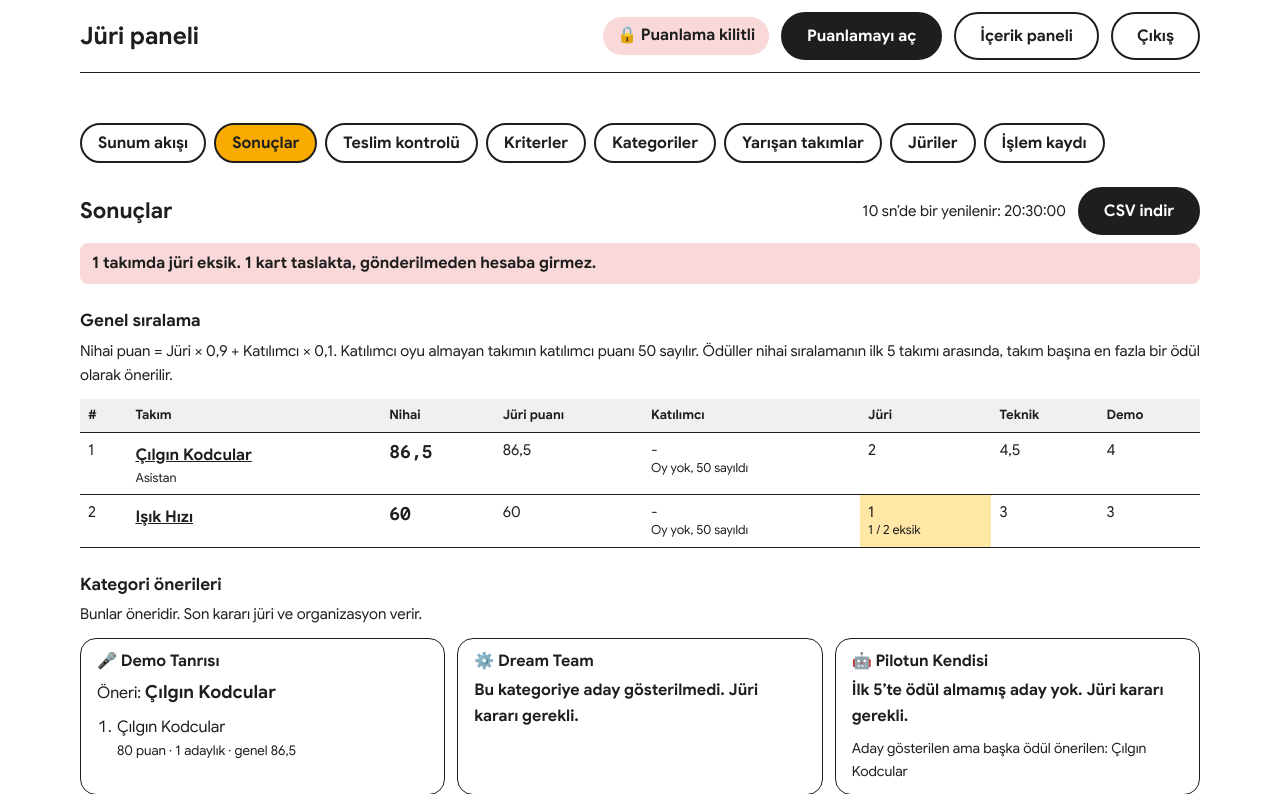
it: kilitliyken › Kategoriler düzenlenemez
The width and height of the screenshot is (1280, 794).
Click the button "Kategoriler" at coordinates (655, 143), box [594, 123, 716, 163]
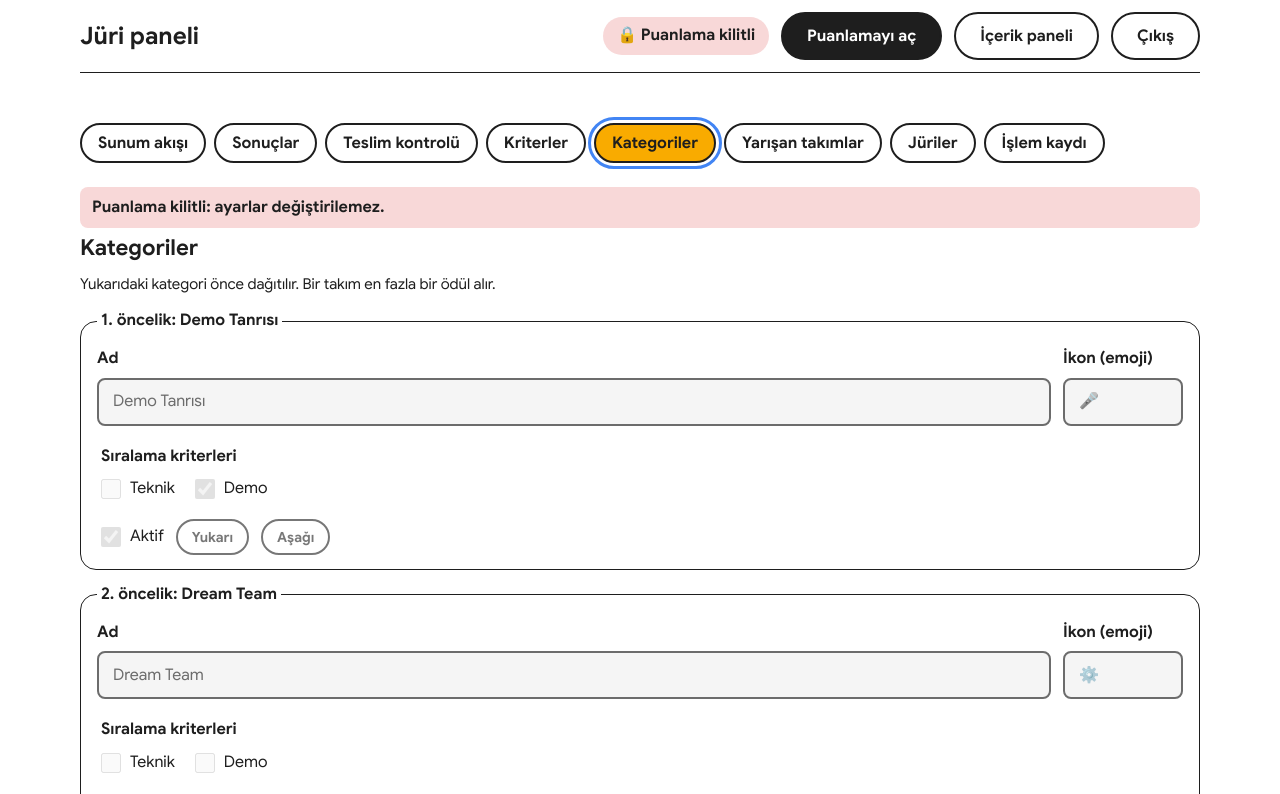
Check: the text "Puanlama kilitli: ayarlar değiştirilemez." is shown, box [80, 187, 1200, 228]
Check: the field labelled "Ad" below "1. öncelik: Demo Tanrısı" is disabled, box [97, 378, 1051, 426]
Check: the 1st field labelled "İkon (emoji)" is disabled, box [1063, 378, 1183, 426]
